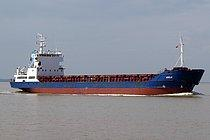Ship: (2, 34, 205, 99)
